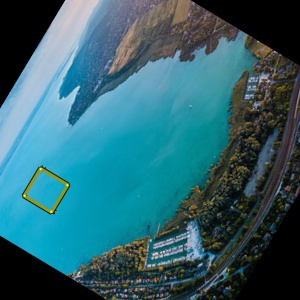square: (19, 164, 72, 216)
